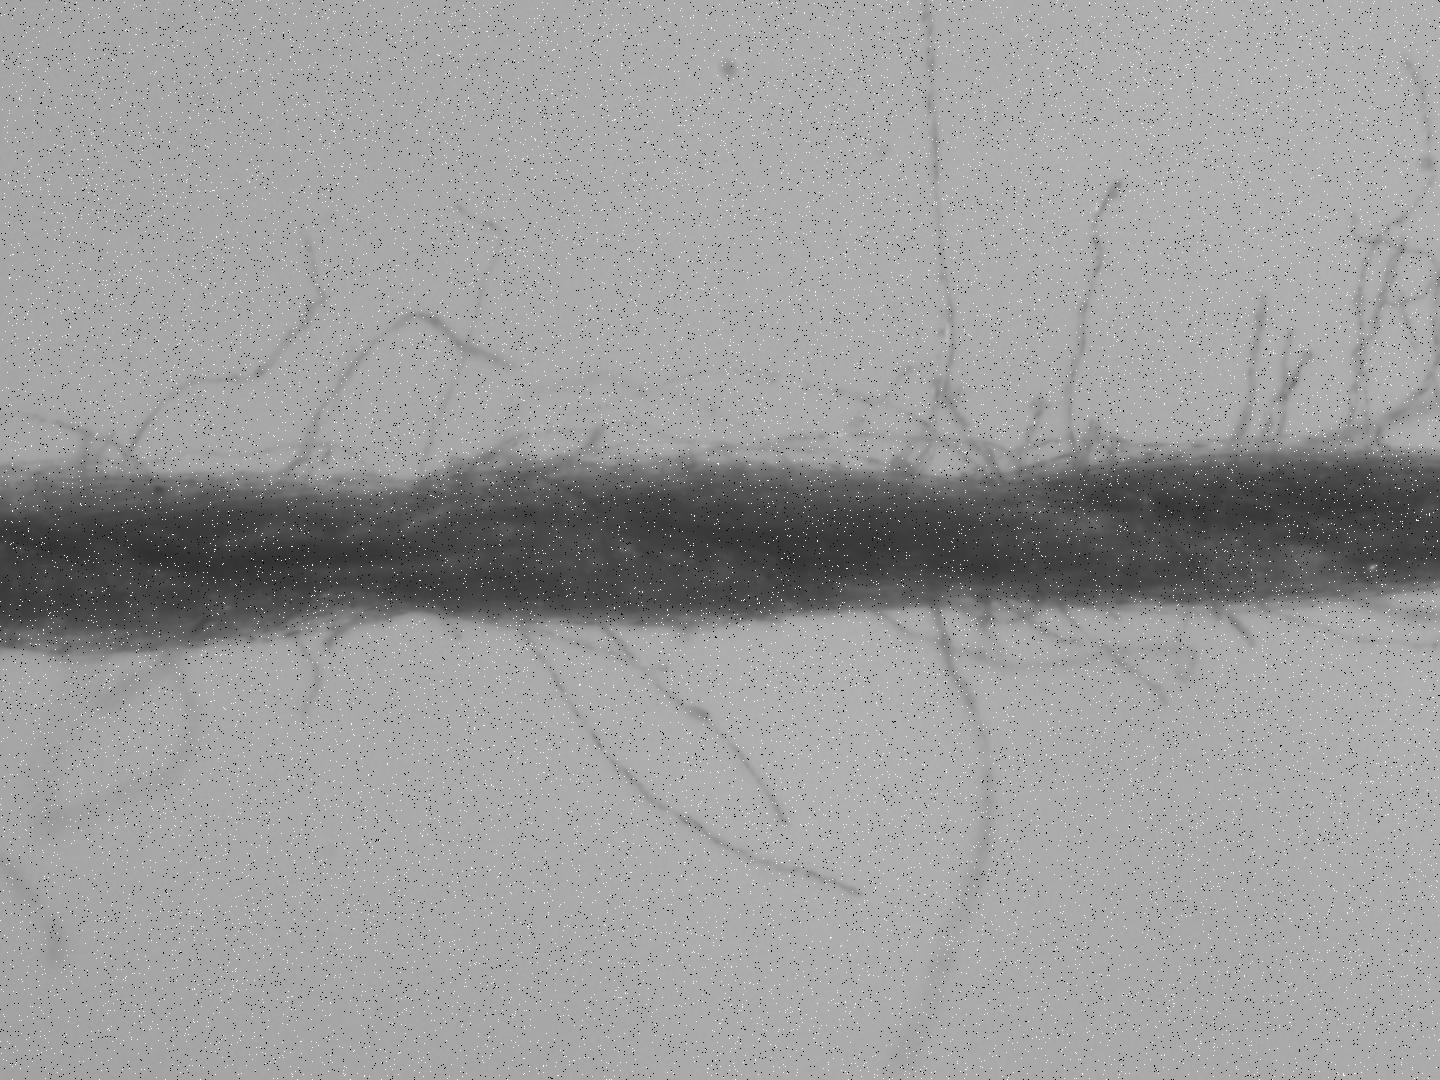loop_fiber: (434, 363, 992, 495), (864, 599, 1201, 684), (0, 442, 378, 496)
protruding_fiber: (509, 615, 867, 902), (102, 212, 332, 483), (889, 599, 999, 1080), (266, 307, 523, 483), (611, 626, 794, 832), (1356, 48, 1435, 456), (412, 208, 501, 491), (909, 1, 959, 473), (1058, 174, 1132, 473), (1054, 607, 1172, 714), (1220, 290, 1270, 463), (286, 641, 320, 727), (1279, 334, 1293, 452)
